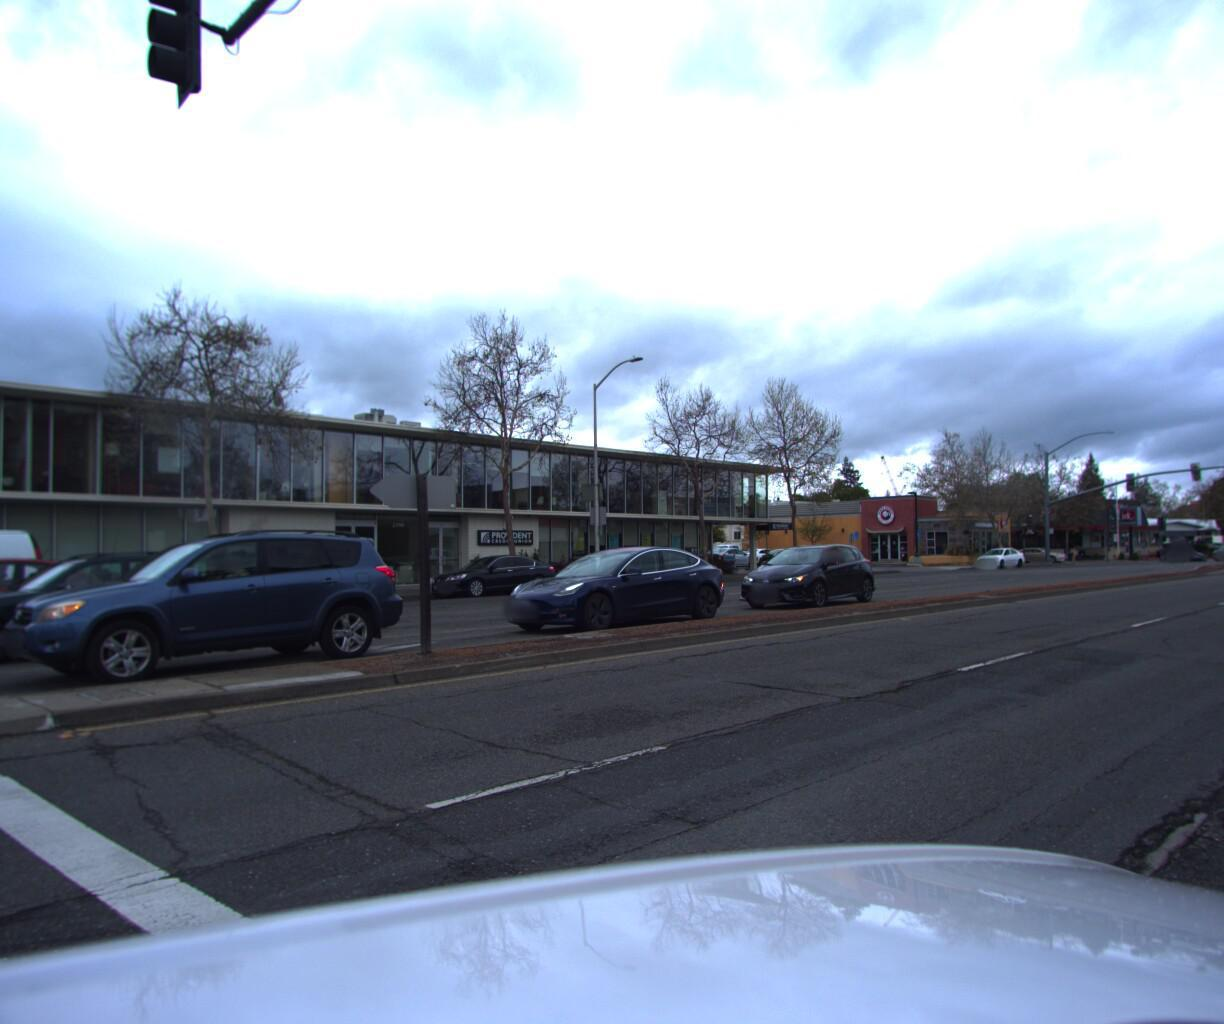car: (0, 519, 430, 712), (0, 550, 276, 671), (485, 547, 738, 641), (0, 556, 161, 663), (728, 553, 884, 633), (421, 562, 566, 618), (0, 524, 59, 649), (966, 557, 1022, 583), (1007, 557, 1068, 573)
